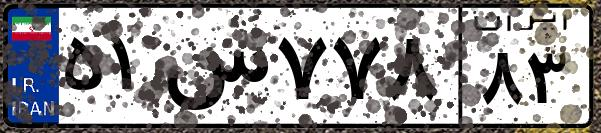1: (110, 28, 158, 98)
3: (525, 38, 570, 115)
5: (57, 26, 110, 100)
7: (270, 28, 330, 110), (330, 28, 385, 110)
8: (385, 28, 445, 110), (475, 38, 525, 113)
س: (158, 20, 270, 120)
